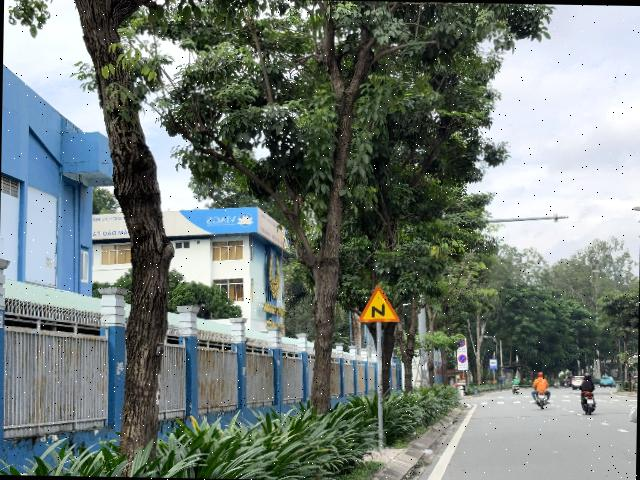nhieu-cho-ngoat-nguy-hiem-lien-tiep: (358, 284, 401, 322)
